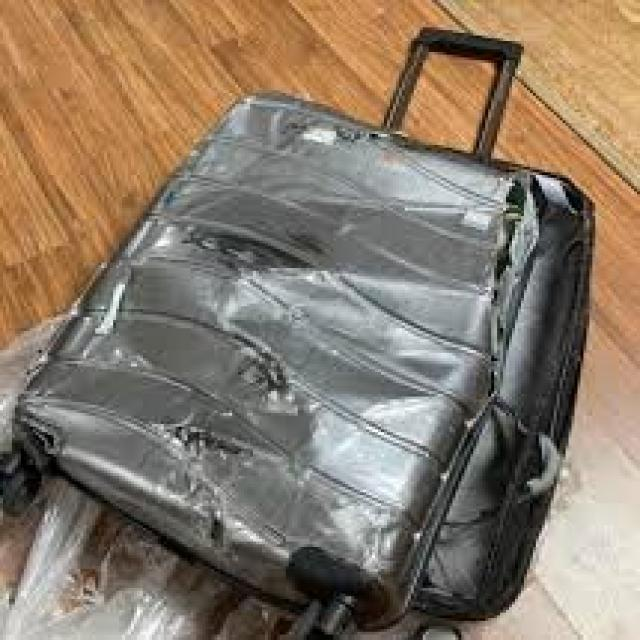Damage-bag: (147, 331, 305, 549), (461, 165, 592, 394), (185, 221, 328, 290), (282, 116, 427, 149)
